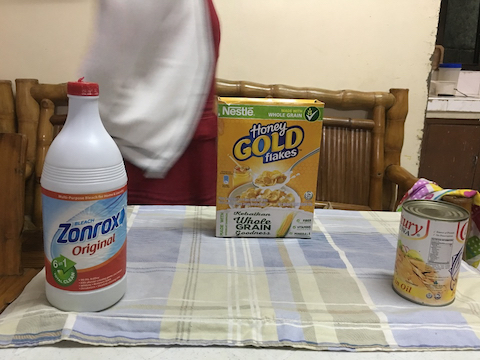bottle: (38, 76, 137, 311)
box: (210, 93, 328, 240)
can: (387, 197, 474, 307)
